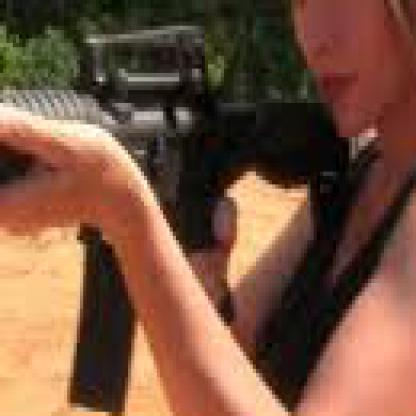gun: (86, 0, 413, 412)
